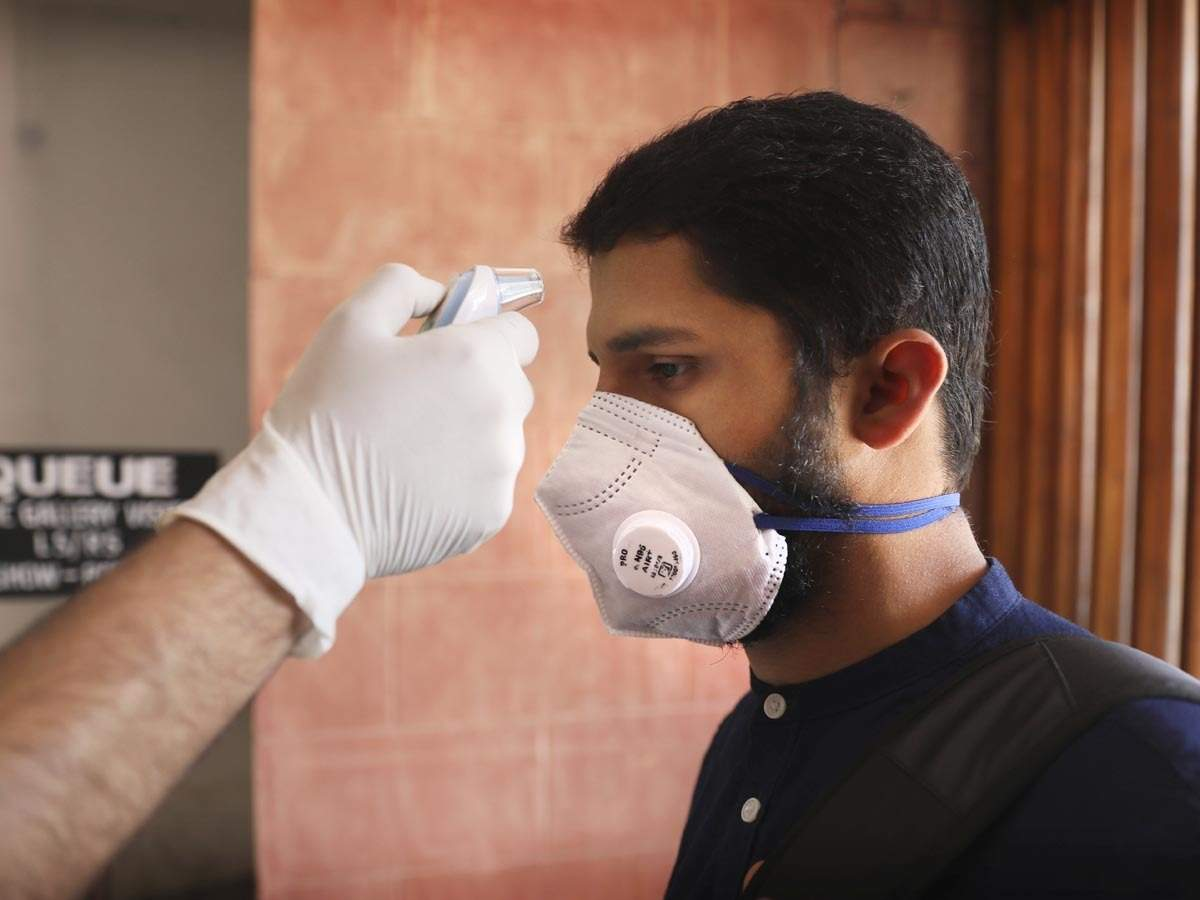n95: (522, 380, 807, 661)
